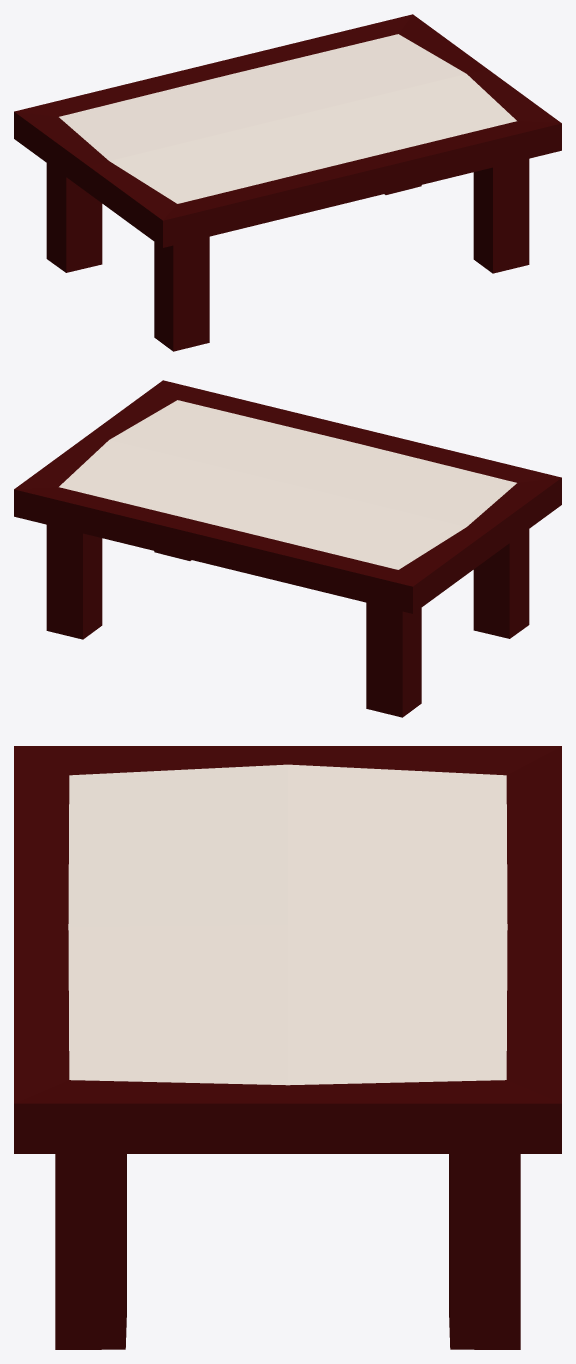
File: plan_de_travail.fbx
3 renders of one model, top to bottom at view 1: azimuth 30°, elevation 25°; view 2: azimuth 150°, elevation 25°; view 3: azimuth 270°, elevation 25°, orthographic. The views are drawn at different scales.
Parts seen in each view (by area): view 1: Cube; view 2: Cube; view 3: Cube.
Part boxes in pixels (x1=…): Cube: x1=14, y1=14, x2=561, y2=351; Cube: x1=14, y1=380, x2=561, y2=717; Cube: x1=14, y1=746, x2=561, y2=1349.
Bounding box in the file's own units: 683 × 236 × 442.
